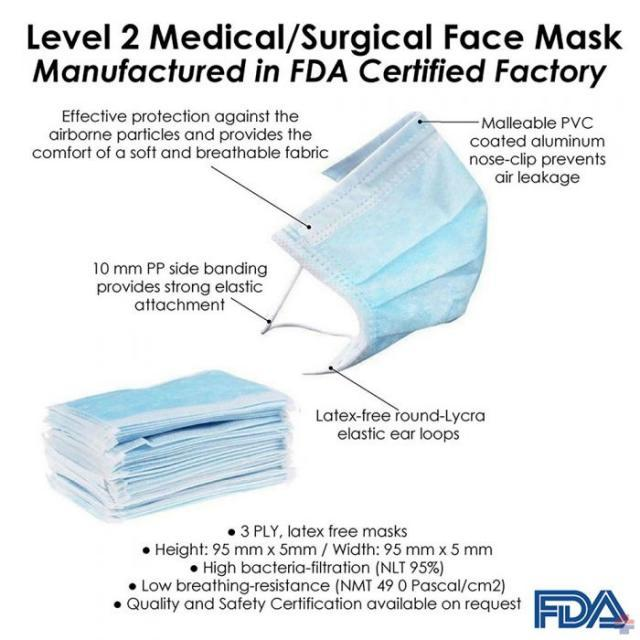face mask: (254, 114, 501, 382)
